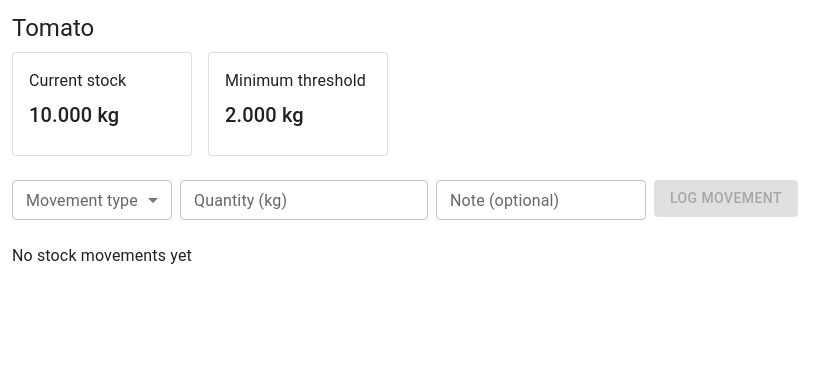
Test case: IngredientDetailPage › offers Purchase/Waste/Adjustment but never Consumption as a movement type
This screenshot has width=815, height=374.
Click the dropdown named "Movement type".
click(92, 200)  # box [12, 180, 172, 220]
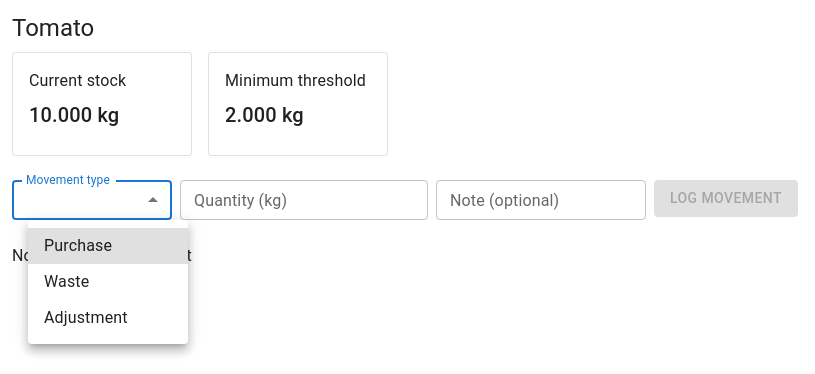
Check: the option "Purchase" is shown, box [28, 228, 188, 264]
Check: the option "Waste" is shown, box [44, 272, 89, 291]
Check: the option "Adjustment" is shown, box [44, 308, 128, 327]
